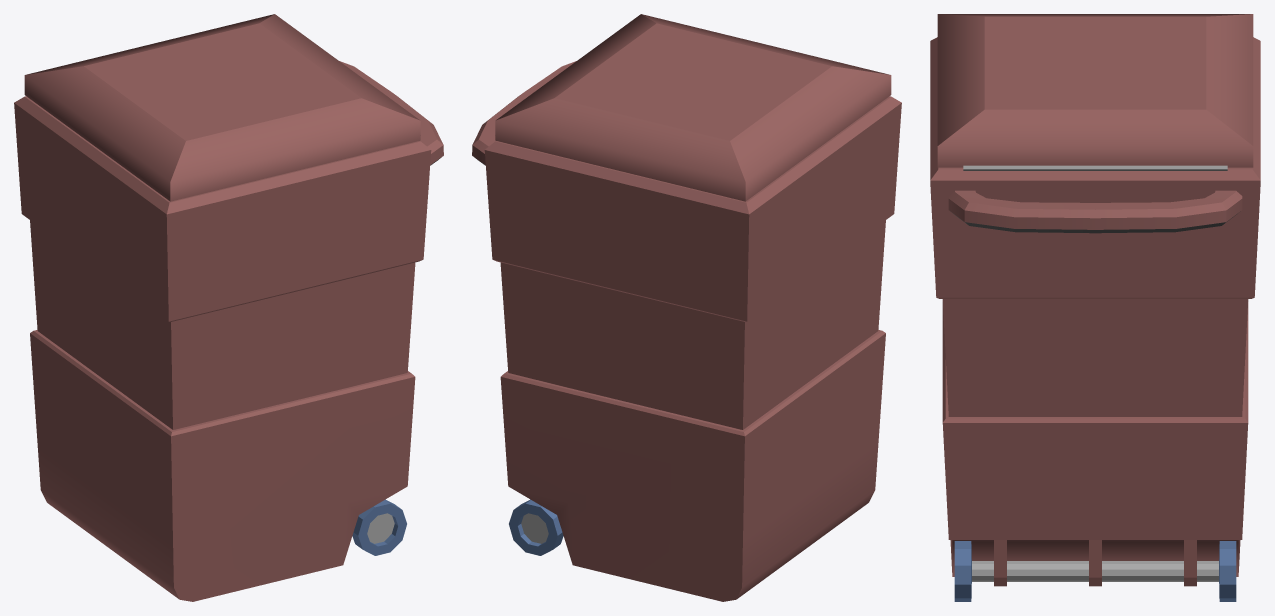
Rendered from Bin.fbx.
The picture shows the model from 3 angles, left to right: view 1: azimuth 30°, elevation 25°; view 2: azimuth 150°, elevation 25°; view 3: azimuth 270°, elevation 25°; orthographic projection. The views are drawn at different scales.
Parts seen in each view (by area): view 1: Body, Lid, Wheels; view 2: Body, Lid, Wheels; view 3: Body, Lid, Wheels.
Boxes of the visible parts, x1,y1,x2,y2 form: Body: [14, 61, 443, 601]; Lid: [24, 14, 420, 201]; Wheels: [352, 499, 406, 555]; Body: [472, 61, 901, 601]; Lid: [495, 14, 891, 201]; Wheels: [509, 499, 563, 555]; Body: [930, 37, 1260, 586]; Lid: [937, 14, 1253, 167]; Wheels: [954, 541, 1236, 601].
Size of the model in its own units: 86.47 by 120 by 74.23.
